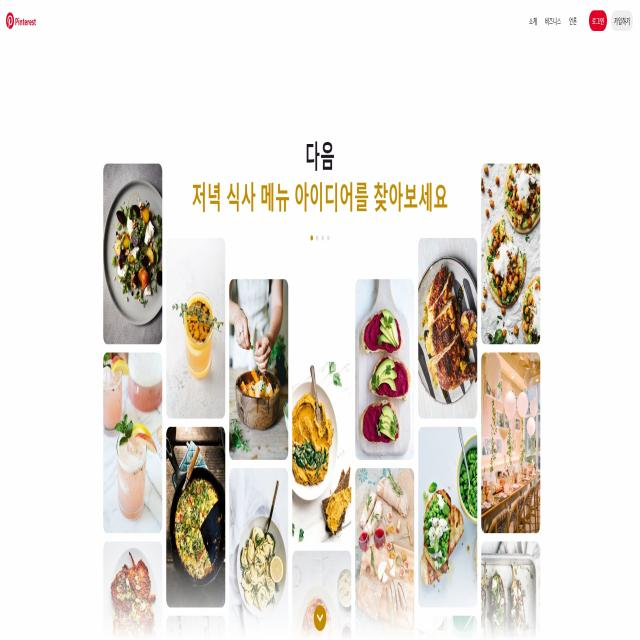menu-bar: (525, 8, 635, 34)
